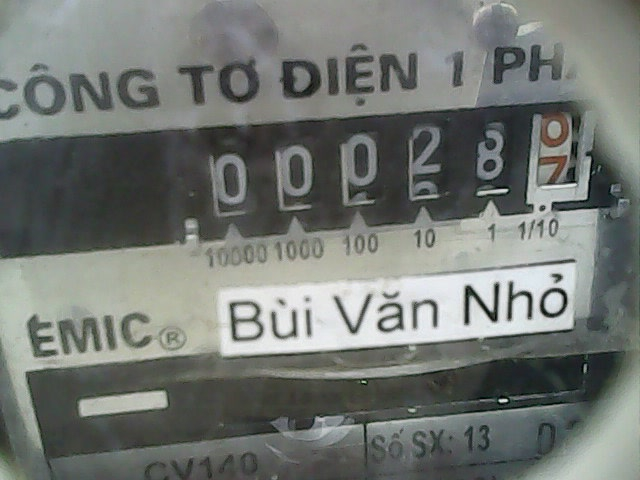phy_plate: (177, 91, 601, 232)
